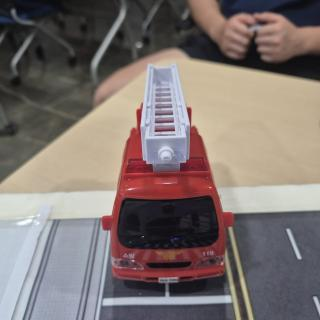Fire_truck: (102, 64, 233, 283)
